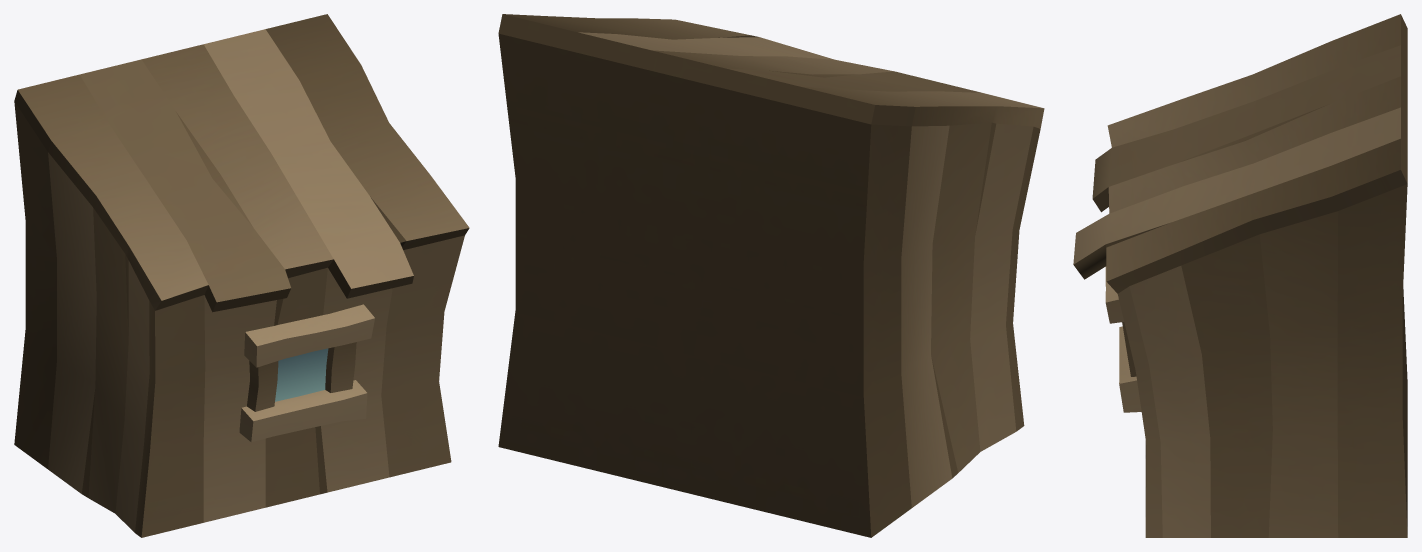
File: wood_building.fbx
3 views of the same model, side by side, from view 1: azimuth 30°, elevation 25°; view 2: azimuth 150°, elevation 25°; view 3: azimuth 270°, elevation 25° (orthographic). The views are drawn at different scales.
Visible parts, largest first — view 1: wood_building; view 2: wood_building; view 3: wood_building.
Boxes of the visible parts, <box> form: wood_building: <box>14,14,469,537</box>; wood_building: <box>498,14,1044,537</box>; wood_building: <box>1073,14,1407,537</box>.
Bounding box in the file's own units: 272 × 300 × 247.
